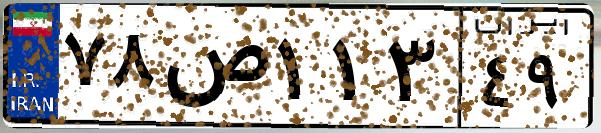1: (270, 28, 330, 110), (330, 28, 385, 110)
3: (385, 28, 445, 110)
4: (475, 38, 525, 113)
7: (57, 26, 110, 100)
8: (110, 28, 158, 98)
9: (525, 38, 570, 115)
ص: (158, 20, 270, 120)
